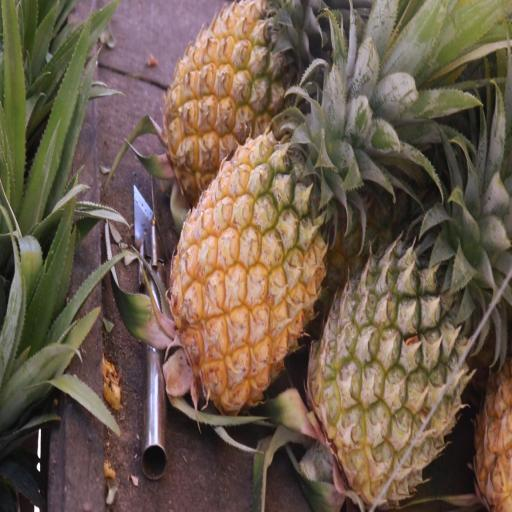Pineapple - v8 v1: (170, 105, 340, 419), (163, 0, 318, 223)
